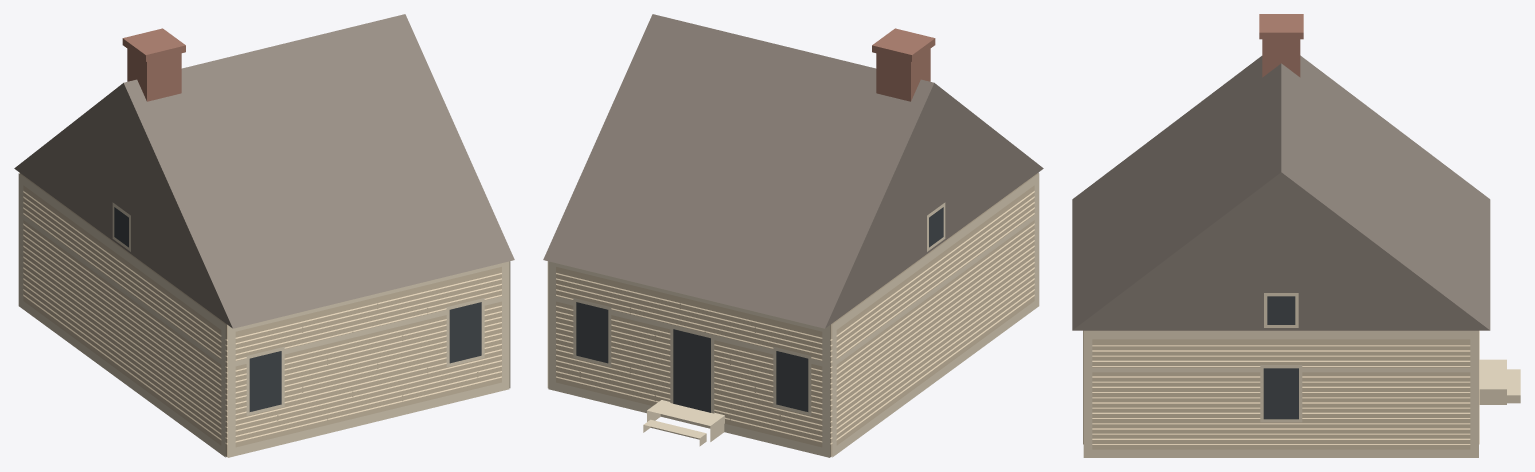
The model's file is recon_1835_blk_randolph_franklin_d6_01__inferred_1835.glb.
The picture shows the model from 3 angles, left to right: view 1: azimuth 30°, elevation 25°; view 2: azimuth 150°, elevation 25°; view 3: azimuth 270°, elevation 25°; orthographic projection. The views are drawn at different scales.
Parts seen in each view (by area): view 1: recon_1835_blk_randolph_franklin_d6_01__inferred_1835; view 2: recon_1835_blk_randolph_franklin_d6_01__inferred_1835; view 3: recon_1835_blk_randolph_franklin_d6_01__inferred_1835.
Boxes of the visible parts, x1,y1,x2,y2 form: recon_1835_blk_randolph_franklin_d6_01__inferred_1835: (14,14,514,457); recon_1835_blk_randolph_franklin_d6_01__inferred_1835: (543,14,1043,457); recon_1835_blk_randolph_franklin_d6_01__inferred_1835: (1072,14,1520,457).
Size of the model in its own units: 6.97 by 7.74 by 9.92.
